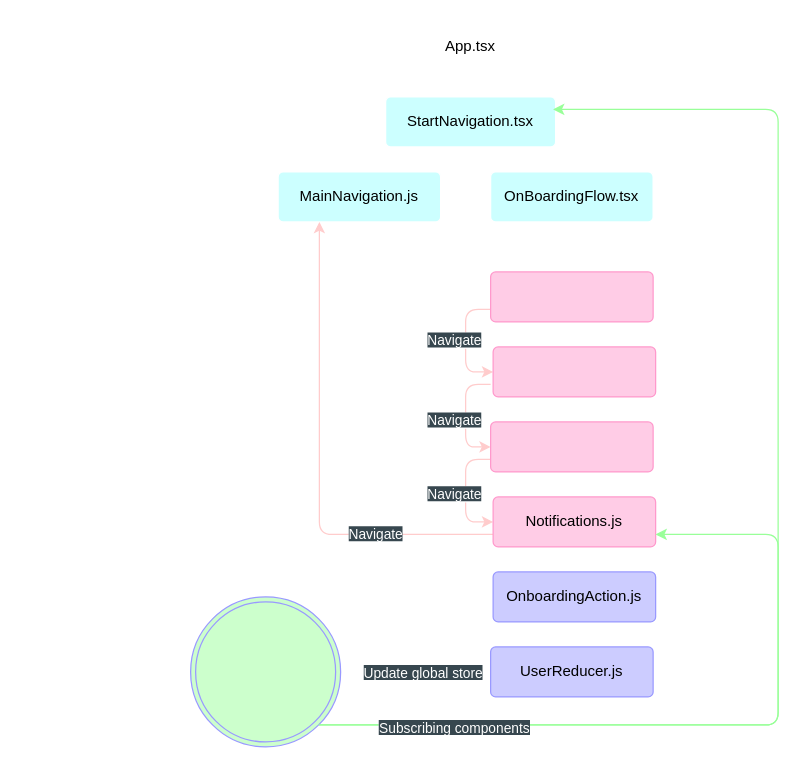
Some shapes in this 810 by 769 pixel diagram are drawn without their labels. Here are the shapes that lost their labels. From the top down, the centre of each, then its label:
At (x=571, y=296): "Signup.js".
At (x=574, y=371): "VerifyEmail.js".
At (x=571, y=446): "SetUpProfile.js".
At (x=265, y=671): "Global store".
